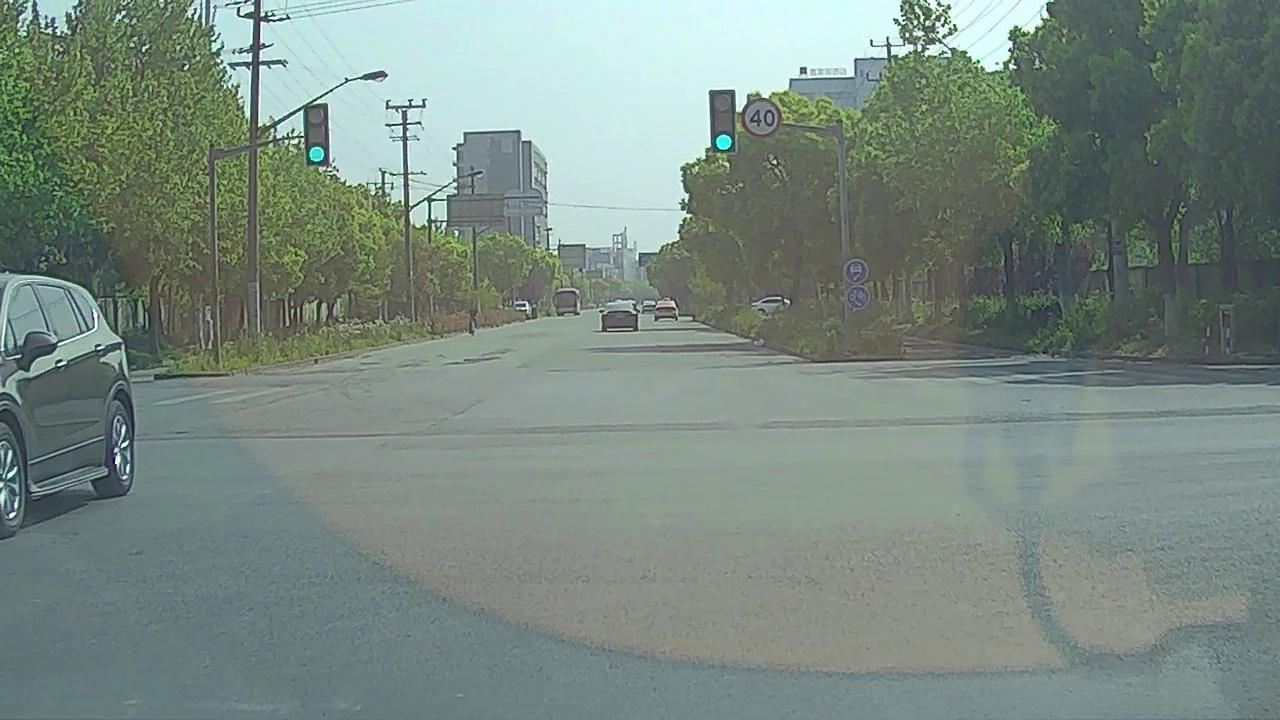traffic_light: (711, 91, 736, 152), (304, 104, 329, 164)
